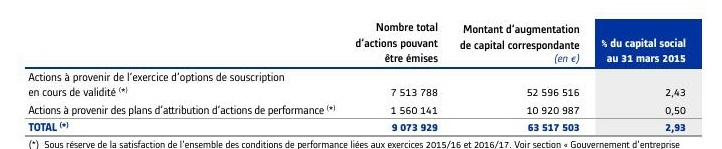table: (0, 0, 722, 149)
